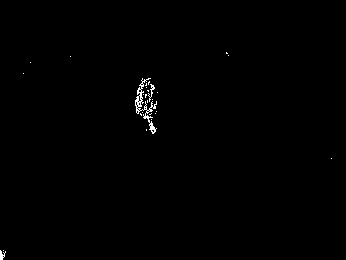person: (133, 76, 159, 137)
